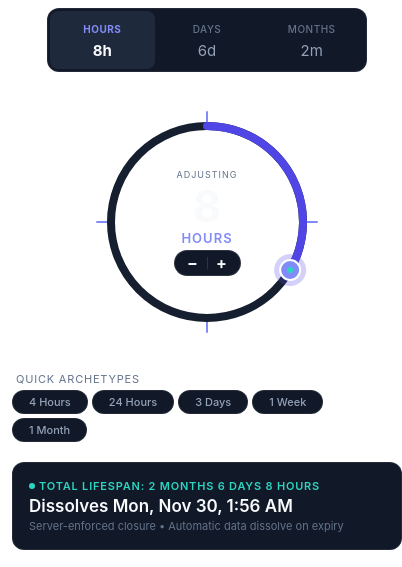
Test: CircularDurationDial Component › switches between unit tabs (HOURS, DAYS, MONTHS)
Switch to DAYS
What coordinates should you click on to do the following:
click the tab with aria-label "Configure days"
I would click on:
 (207, 42)
Its box is [193, 23, 221, 60].
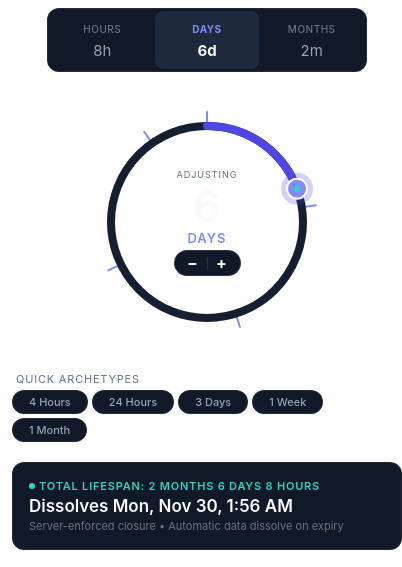
Result: the slider named "Duration Dial: 6 days" is shown at [77, 92, 337, 352]
Switch to MONTHS
What coordinates should you click on to do the following:
click the tab with aria-label "Configure months"
I would click on:
 (312, 42)
Its box is [288, 23, 336, 60].
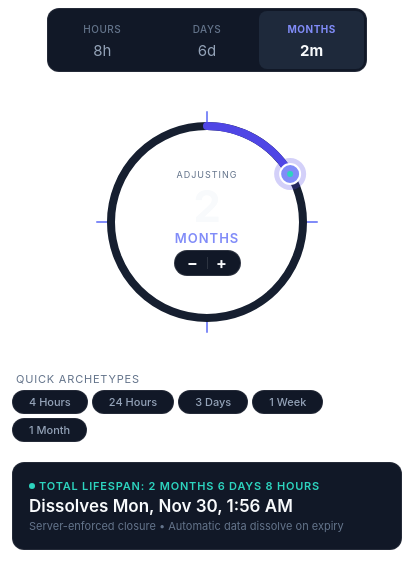
Result: the slider named "Duration Dial: 2 months" is shown at [77, 92, 337, 352]
